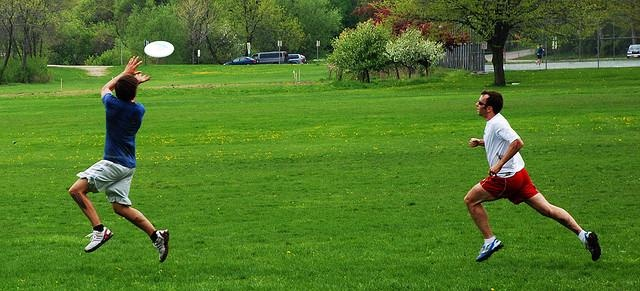person: (463, 88, 605, 264), (67, 55, 171, 263)
